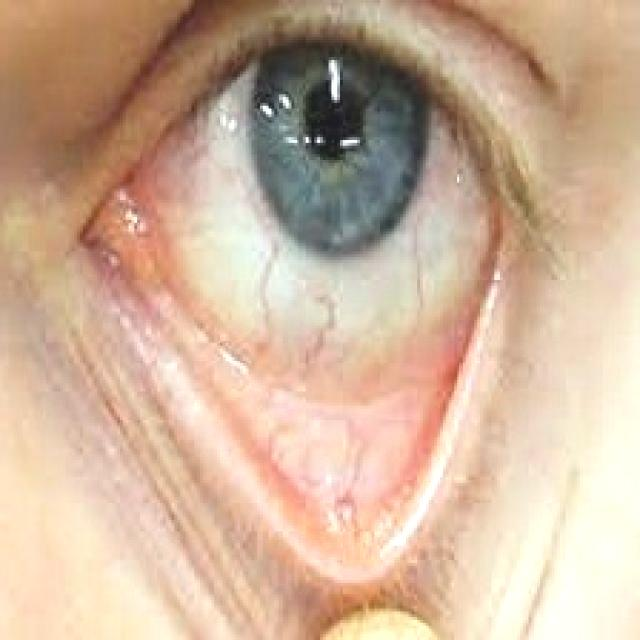conjunctiva_pallor: (125, 213, 493, 554)
